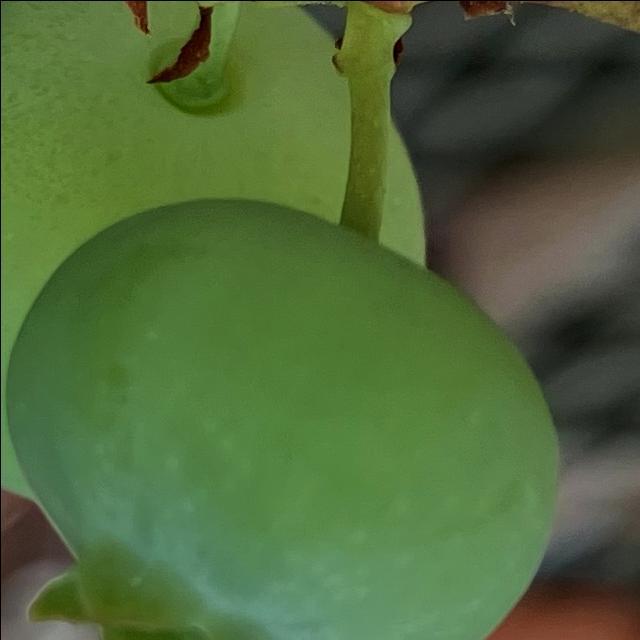Blueberries: (4, 195, 565, 640)
